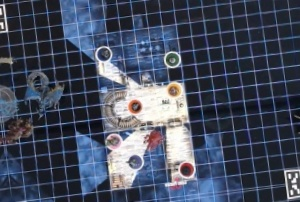green: (161, 46, 182, 67)
orange: (125, 95, 145, 114)
pink: (102, 129, 125, 152)
red: (174, 157, 196, 178)
violet: (122, 150, 147, 171), (93, 43, 115, 63)
yellow: (165, 77, 184, 99)
